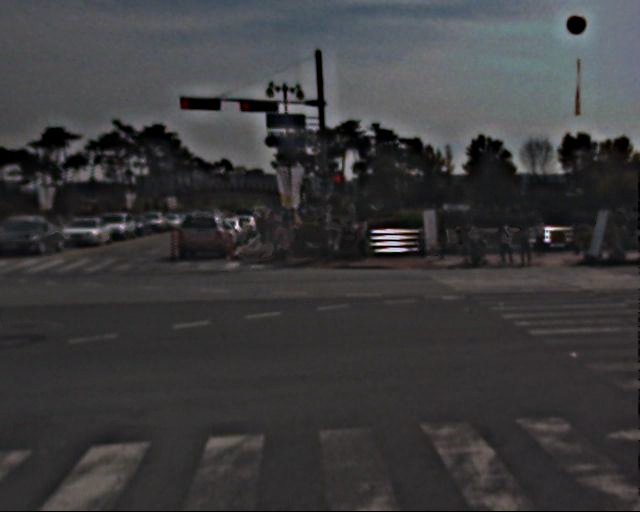person: (254, 211, 294, 243), (356, 216, 377, 267), (460, 217, 481, 268), (316, 212, 337, 262), (519, 217, 540, 267), (498, 221, 517, 267), (438, 219, 456, 262), (534, 214, 551, 256)
